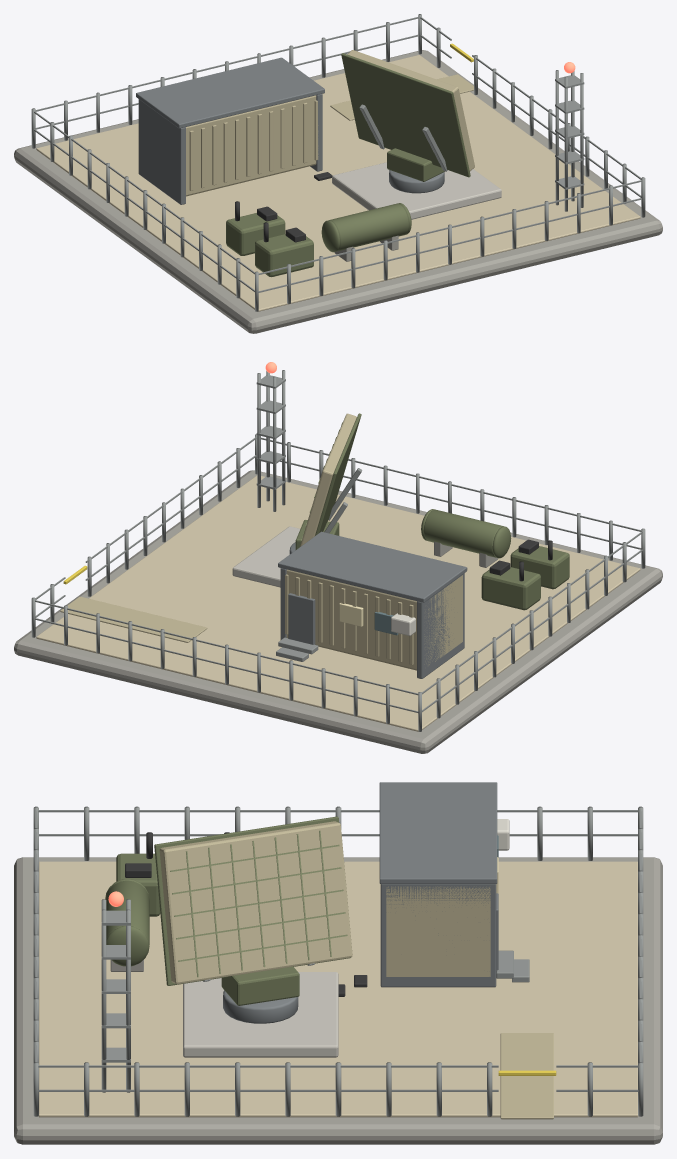
Rendered from radar_2.glb.
The picture shows the model from 3 angles, top to bottom: view 1: azimuth 30°, elevation 25°; view 2: azimuth 150°, elevation 25°; view 3: azimuth 270°, elevation 25°; orthographic projection. The views are drawn at different scales.
Visible parts, largest first — view 1: Cube.001, Cube, Cube.006, Cube.036, Cube.021, Cube.003, Cube.022, Cylinder.003, Cube.050, Cube.048, Cube.005, Cube.004 (+11 smaller); view 2: Cube.001, Cube, Cube.021, Cube.036, Cube.022, Cube.002, Cylinder.003, Cube.048, Cube.003, Cube.005, Cube.050, Cube.037 (+7 smaller); view 3: Cube.001, Cube, Cube.005, Cube.036, Cube.003, Cube.021, Cube.002, Cube.023, Cube.004, Cube.006, Cylinder, Cylinder.003 (+8 smaller).
Boxes of the visible parts, left/top/right/bottom form: Cube.001: left=36, top=55, right=640, bottom=311; Cube: left=14, top=50, right=662, bottom=333; Cube.006: left=341, top=53, right=470, bottom=177; Cube.036: left=136, top=57, right=324, bottom=128; Cube.021: left=186, top=95, right=316, bottom=196; Cube.003: left=332, top=162, right=501, bottom=219; Cube.022: left=138, top=99, right=185, bottom=204; Cylinder.003: left=329, top=203, right=408, bottom=251; Cube.050: left=255, top=234, right=313, bottom=277; Cube.048: left=226, top=213, right=285, bottom=255; Cube.005: left=347, top=50, right=474, bottom=171; Cube.004: left=387, top=148, right=444, bottom=181; Cube.001: left=36, top=475, right=640, bottom=731; Cube: left=14, top=470, right=662, bottom=753; Cube.021: left=286, top=569, right=462, bottom=670; Cube.036: left=278, top=531, right=467, bottom=602; Cube.022: left=417, top=573, right=464, bottom=678; Cube.002: left=60, top=596, right=207, bottom=642; Cylinder.003: left=423, top=509, right=503, bottom=557; Cube.048: left=481, top=567, right=540, bottom=610; Cube.003: left=232, top=526, right=300, bottom=587; Cube.005: left=300, top=413, right=356, bottom=546; Cube.050: left=510, top=546, right=569, bottom=589; Cube.037: left=288, top=593, right=315, bottom=644; Cube.001: left=38, top=861, right=638, bottom=1117; Cube: left=14, top=857, right=662, bottom=1144; Cube.005: left=159, top=821, right=352, bottom=984; Cube.036: left=379, top=782, right=497, bottom=883; Cube.003: left=183, top=972, right=338, bottom=1057; Cube.021: left=386, top=886, right=490, bottom=976; Cube.002: left=500, top=1033, right=553, bottom=1119; Cube.023: left=380, top=884, right=496, bottom=987; Cube.004: left=221, top=966, right=299, bottom=1005; Cube.006: left=154, top=816, right=350, bottom=985; Cylinder: left=223, top=990, right=298, bottom=1023; Cylinder.003: left=105, top=880, right=149, bottom=944.
Bounding box in the file's own units: 2.92 × 1.08 × 2.92.
